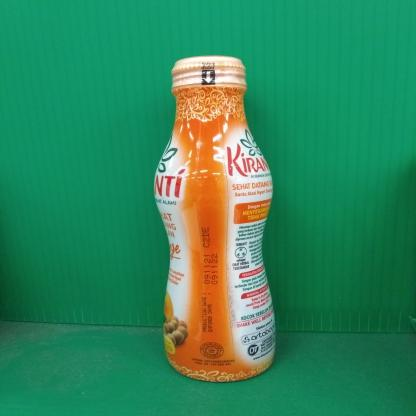bottle: (148, 54, 281, 386)
